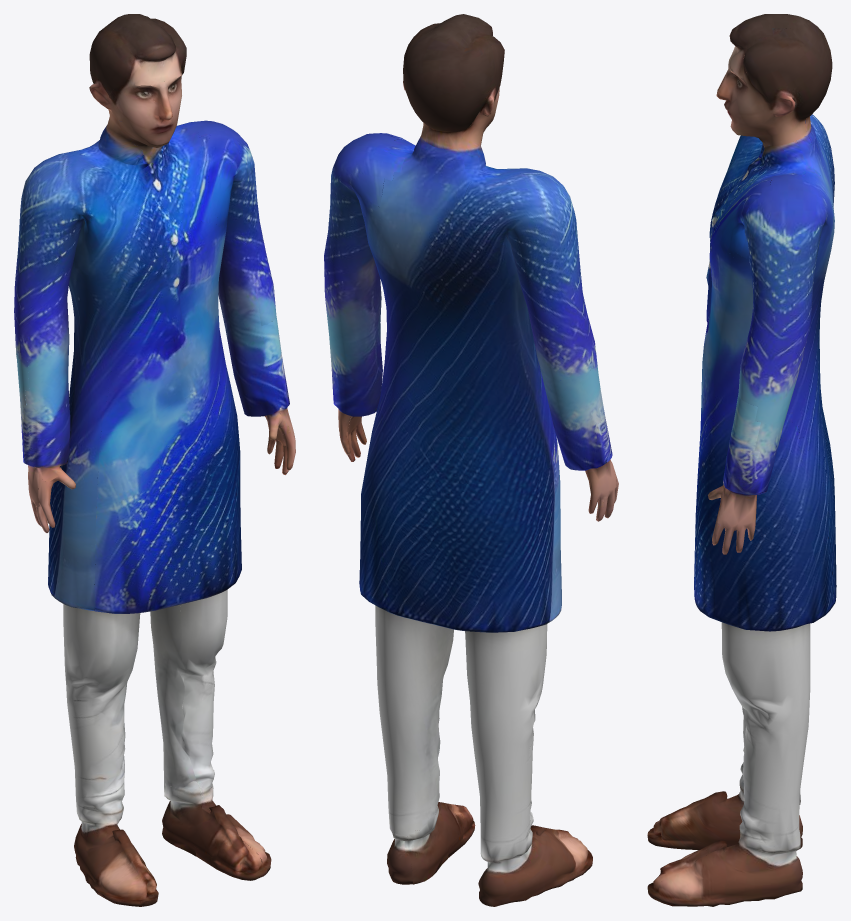
File: sf_man_kurta_blue.glb
3 views of the same model, side by side, from view 1: azimuth 30°, elevation 25°; view 2: azimuth 150°, elevation 25°; view 3: azimuth 270°, elevation 25° (orthographic). The views are drawn at different scales.
Parts seen in each view (by area): view 1: sf_man_kurta_blue; view 2: sf_man_kurta_blue; view 3: sf_man_kurta_blue.
Boxes of the visible parts, bbox=[...] form: sf_man_kurta_blue: bbox=[14, 14, 295, 906]; sf_man_kurta_blue: bbox=[324, 14, 618, 906]; sf_man_kurta_blue: bbox=[647, 14, 836, 906].
Size of the model in its own units: 0.5607 by 1.7 by 0.3419.
1 material, 1 textured.
